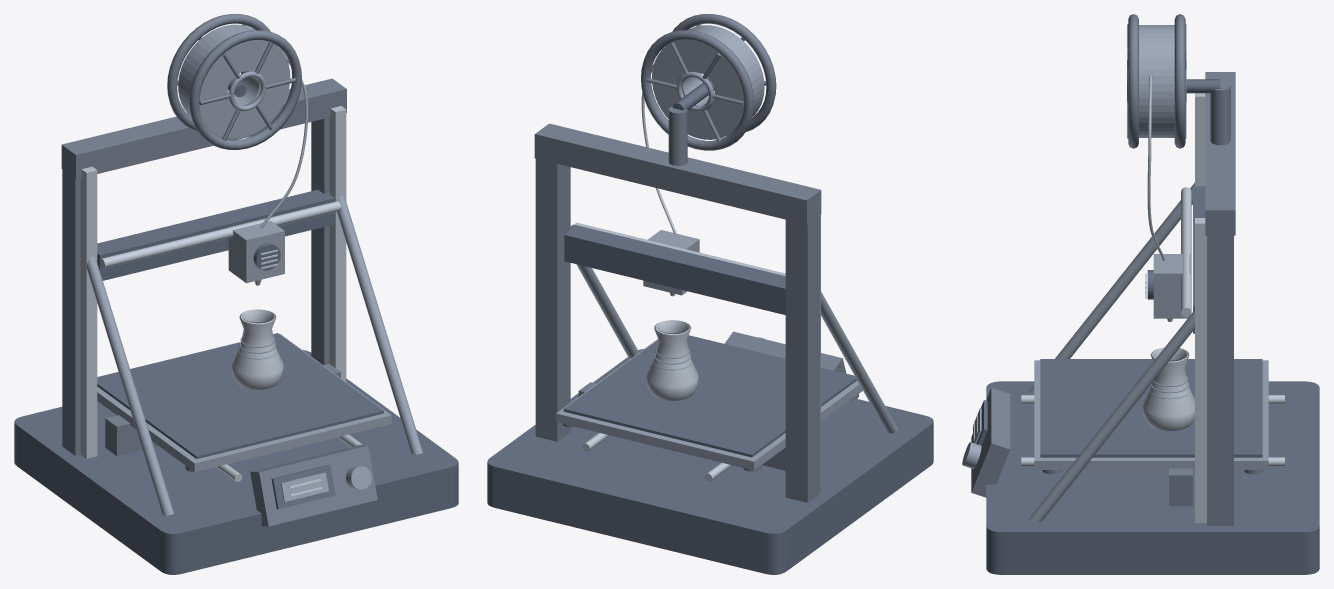
Rendered from 3D打印机-lite.glb.
The picture shows the model from 3 angles, left to right: view 1: azimuth 30°, elevation 25°; view 2: azimuth 150°, elevation 25°; view 3: azimuth 270°, elevation 25°; orthographic projection. The views are drawn at different scales.
Parts seen in each view (by area): view 1: 3d-printer-dark, 3d-printer-frame, 3d-printer-light, 3d-printer-accent, 3d-printer-soft; view 2: 3d-printer-dark, 3d-printer-frame, 3d-printer-accent, 3d-printer-soft, 3d-printer-light; view 3: 3d-printer-dark, 3d-printer-frame, 3d-printer-accent, 3d-printer-light, 3d-printer-soft.
Part boxes in pixels (bbox=[...]): 3d-printer-dark: bbox=[14, 78, 458, 574]; 3d-printer-frame: bbox=[61, 14, 382, 526]; 3d-printer-light: bbox=[80, 49, 362, 496]; 3d-printer-accent: bbox=[87, 71, 423, 515]; 3d-printer-soft: bbox=[178, 24, 328, 501]; 3d-printer-dark: bbox=[487, 79, 933, 574]; 3d-printer-frame: bbox=[534, 14, 858, 502]; 3d-printer-accent: bbox=[556, 71, 897, 470]; 3d-printer-soft: bbox=[652, 25, 764, 139]; 3d-printer-light: bbox=[575, 64, 820, 487]; 3d-printer-dark: bbox=[973, 79, 1319, 574]; 3d-printer-frame: bbox=[971, 14, 1263, 525]; 3d-printer-accent: bbox=[962, 60, 1268, 522]; 3d-printer-light: bbox=[973, 76, 1284, 522]; 3d-printer-soft: bbox=[973, 25, 1174, 443].
Size of the model in its own units: 0.46 by 0.694 by 0.461.
